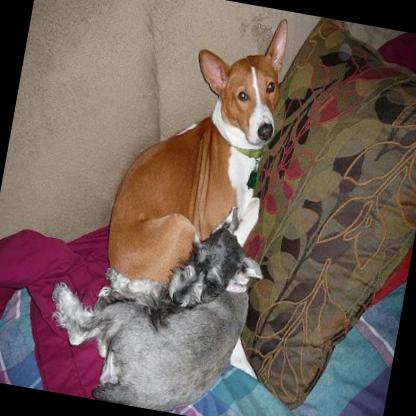basenji: (98, 0, 297, 300)
